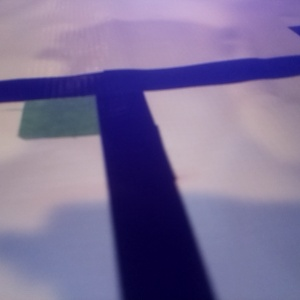bottom_right: (64, 1, 139, 23)
top_left: (104, 219, 279, 300)
